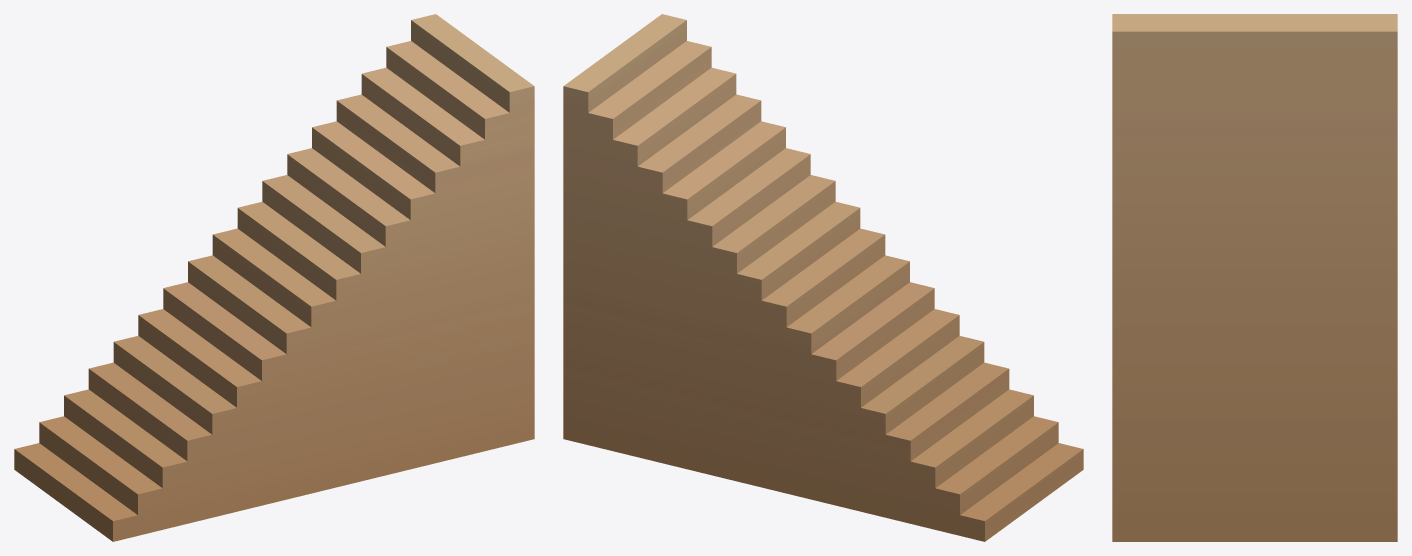
File: Stairs_C_1_5.glb
3 views of the same model, side by side, from view 1: azimuth 30°, elevation 25°; view 2: azimuth 150°, elevation 25°; view 3: azimuth 270°, elevation 25° (orthographic). The views are drawn at different scales.
Parts seen in each view (by area): view 1: Stairs_C_1_5; view 2: Stairs_C_1_5; view 3: Stairs_C_1_5.
Part boxes in pixels (x1,y1,x2,y2): Stairs_C_1_5: (14,14,534,541); Stairs_C_1_5: (563,14,1083,541); Stairs_C_1_5: (1112,14,1397,541).
Size of the model in its own units: 3.4 by 2.72 by 1.38.
Materials: 1 (1 with a texture image).
